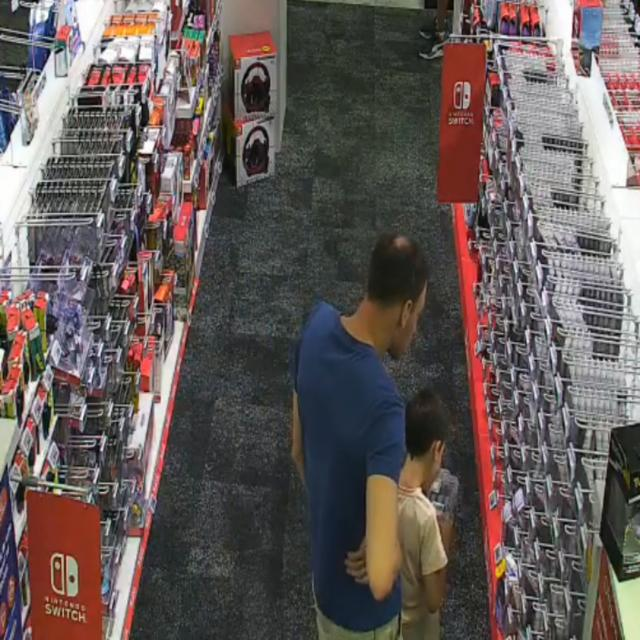article: (429, 469, 460, 517)
hands: (345, 540, 367, 584), (438, 515, 455, 555)
person: (292, 235, 427, 639), (399, 389, 453, 639)
